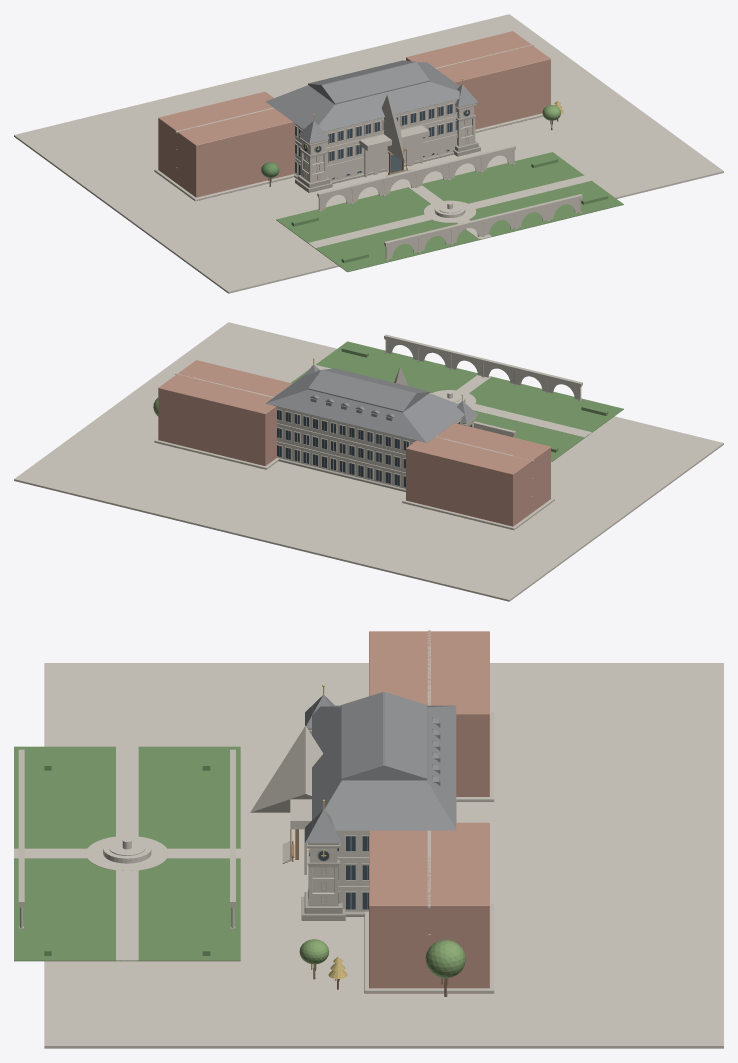
File: DISTRICT_D_COLLEGE.glb
3 views of the same model, one above another, from view 1: azimuth 30°, elevation 25°; view 2: azimuth 150°, elevation 25°; view 3: azimuth 270°, elevation 25° (orthographic). The views are drawn at different scales.
Visible parts, largest first — view 1: D_Ground, Courtyard_Lawn, Mass.001, Mass.002, Roof_Mansard.002, Roof_Pitched.014, Courtyard_Paving, Mass, Facade_Frames, Colonnade_Arches.004, Colonnade_Arches.003, D_PorchPediment (+8 smaller); view 2: D_Ground, Mass.001, Mass.002, Courtyard_Lawn, Roof_Mansard.002, Mass, Roof_Pitched.014, Facade_Frames.001, Facade_Glass.001, Colonnade_Arches.003, Courtyard_Paving, Colonnade_Cap.003 (+4 smaller); view 3: D_Ground, Courtyard_Lawn, Mass.002, Mass.001, Roof_Mansard.002, Roof_Pitched.014, Courtyard_Paving, D_PorchPediment, Mass_Plinth.002, Mass, Tree_Leaves.008, Tower_Shaft.001 (+7 smaller).
Boxes of the visible parts, x1,y1,x2,y2 form: D_Ground: (14,14,723,293); Courtyard_Lawn: (276,152,623,272); Mass.001: (158,91,295,197); Mass.002: (406,31,550,129); Roof_Mansard.002: (266,62,471,134); Roof_Pitched.014: (308,60,429,104); Courtyard_Paving: (308,175,591,248); Mass: (295,100,457,180); Facade_Frames: (325,102,457,180); Colonnade_Arches.004: (320,150,513,210); Colonnade_Arches.003: (387,199,579,258); D_PorchPediment: (359,95,429,162); D_Ground: (14,322,723,601); Mass.001: (406,423,550,526); Mass.002: (158,360,292,466); Courtyard_Lawn: (291,341,623,461); Roof_Mansard.002: (266,370,464,442); Mass: (277,407,461,488); Roof_Pitched.014: (308,368,429,412); Facade_Frames.001: (277,409,413,488); Facade_Glass.001: (277,410,408,487); Colonnade_Arches.003: (386,339,579,399); Courtyard_Paving: (308,365,591,437); Colonnade_Cap.003: (384,334,582,386); D_Ground: (44,663,723,1048); Courtyard_Lawn: (14,746,240,961); Mass.002: (369,822,489,988); Mass.001: (369,631,489,796); Roof_Mansard.002: (312,705,456,830); Roof_Pitched.014: (341,692,427,780); Courtyard_Paving: (14,746,240,961); D_PorchPediment: (250,726,323,829); Mass_Plinth.002: (364,903,494,993); Mass: (337,831,368,911); Tree_Leaves.008: (425,939,465,978); Tower_Shaft.001: (308,867,338,905).
Size of the model in its own units: 120 by 18.8 by 94.
